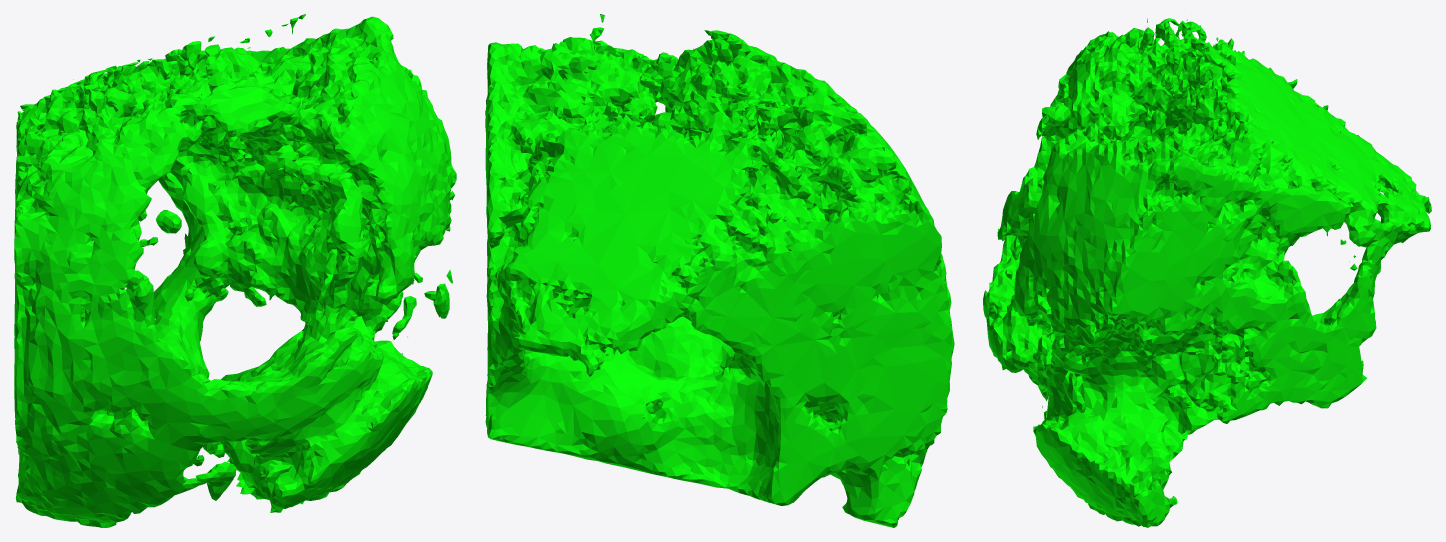
The model's file is B939XXXX-1_base_33.obj.
The picture shows the model from 3 angles, left to right: view 1: azimuth 30°, elevation 25°; view 2: azimuth 150°, elevation 25°; view 3: azimuth 270°, elevation 25°; orthographic projection. The views are drawn at different scales.
Parts seen in each view (by area): view 1: 33_base; view 2: 33_base; view 3: 33_base.
Boxes of the visible parts, <box> form: 33_base: <box>14,14,456,527</box>; 33_base: <box>485,14,954,527</box>; 33_base: <box>983,18,1431,527</box>.
Size of the model in its own units: 219 by 216 by 204.
